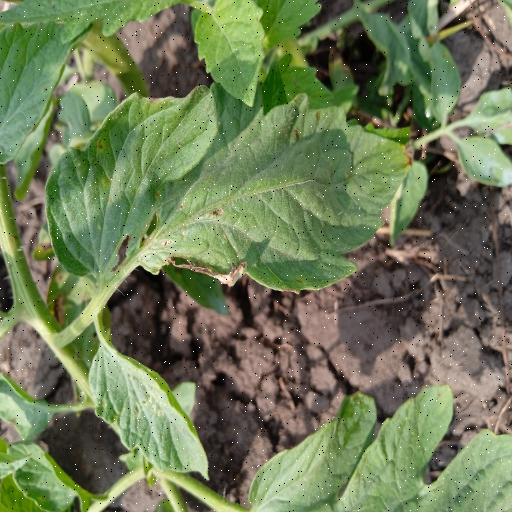Tomato_Brown_Spots: (42, 79, 424, 292)
